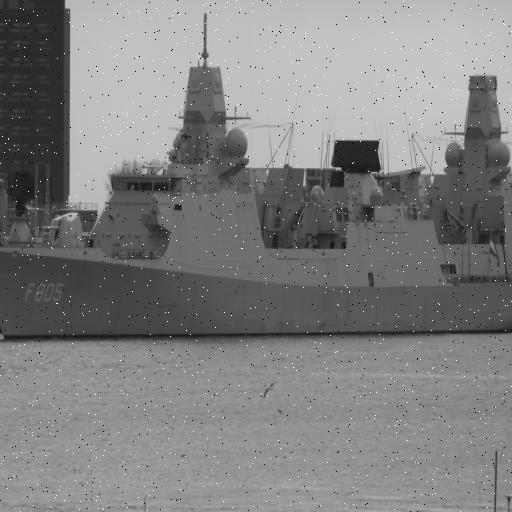Fragata: (1, 31, 512, 350)
